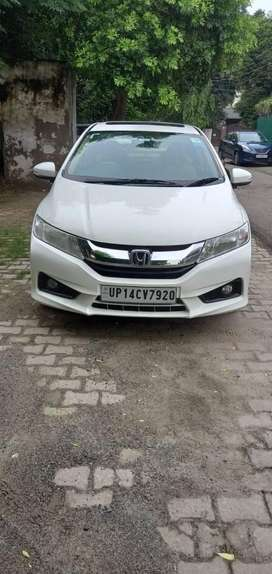UP14CV7920: (101, 286, 175, 303)
